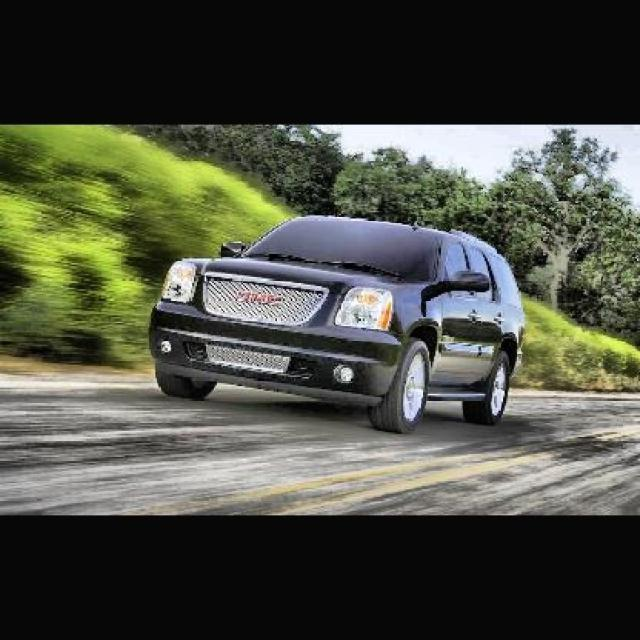black: (144, 184, 536, 438)
